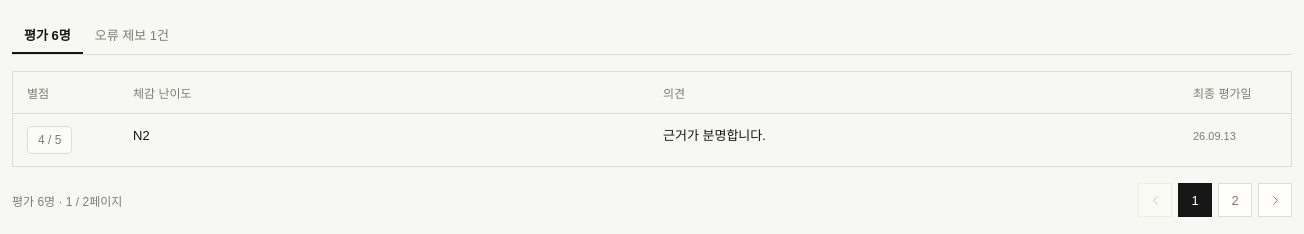
Test: AdminItemResponsesDialog › shows evaluation and report pages independently
The width and height of the screenshot is (1304, 234).
expect the text "근거가 분명합니다." is shown: met, box [649,114,1179,166]
expect the text "평가 6명 · 1 / 2페이지" is shown: met, box [12,192,122,208]
Click the tab "오류 제보 1건": (132, 35) [83,16,181,54]
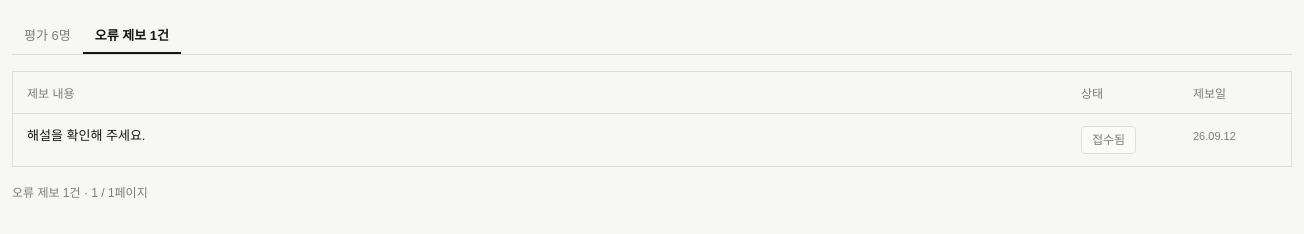
expect the text "해설을 확인해 주세요." is shown: met, box [13,114,1067,166]
expect the text "접수됨" is shown: met, box [1081,126,1136,154]
